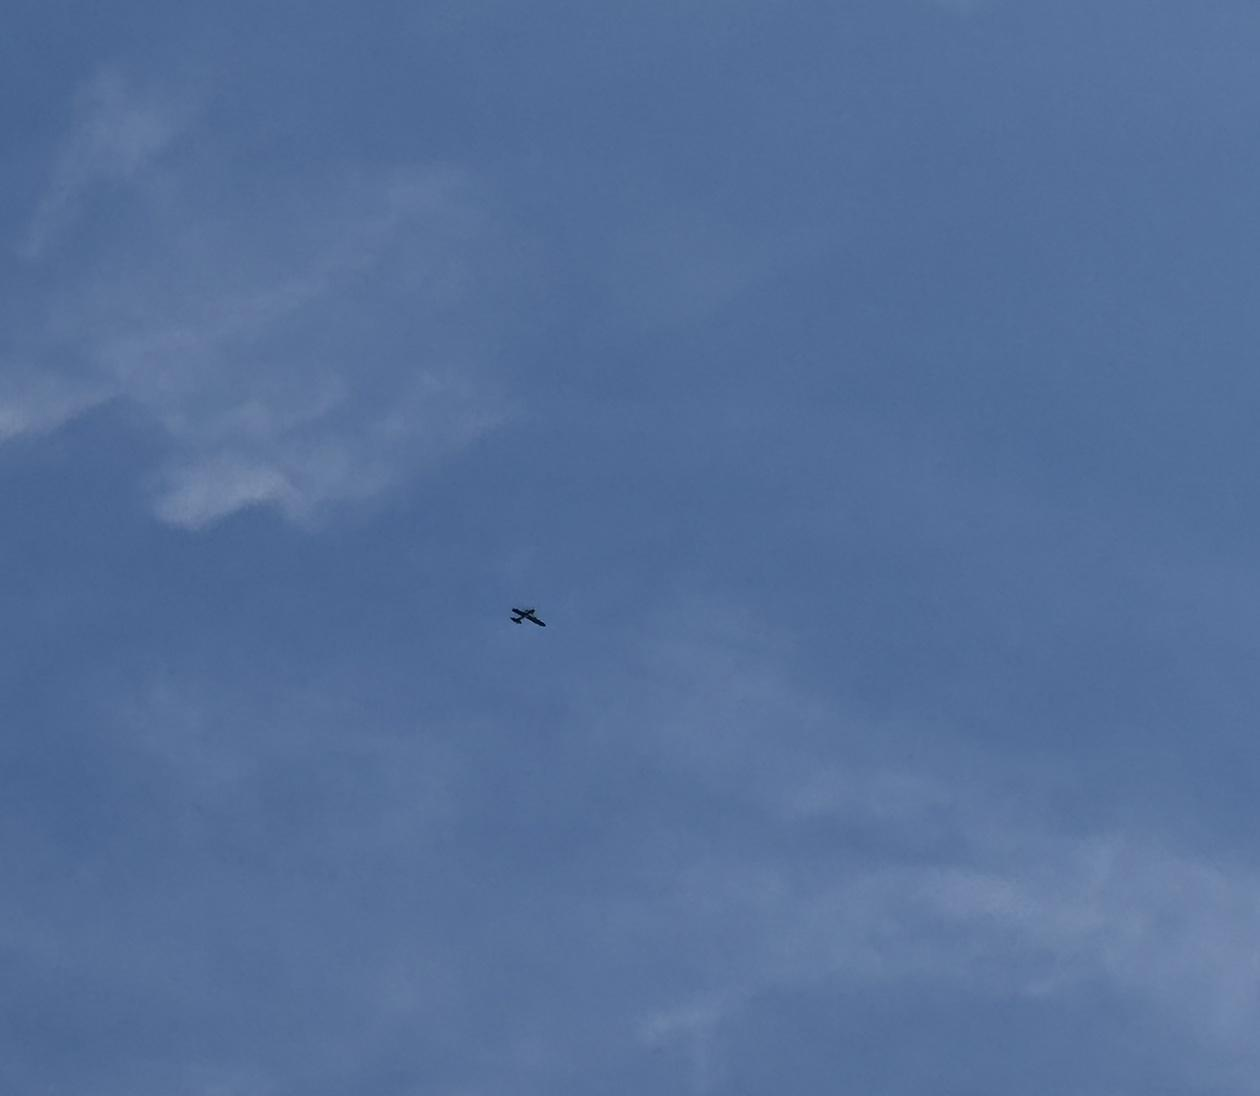Plane: (487, 591, 565, 645)
